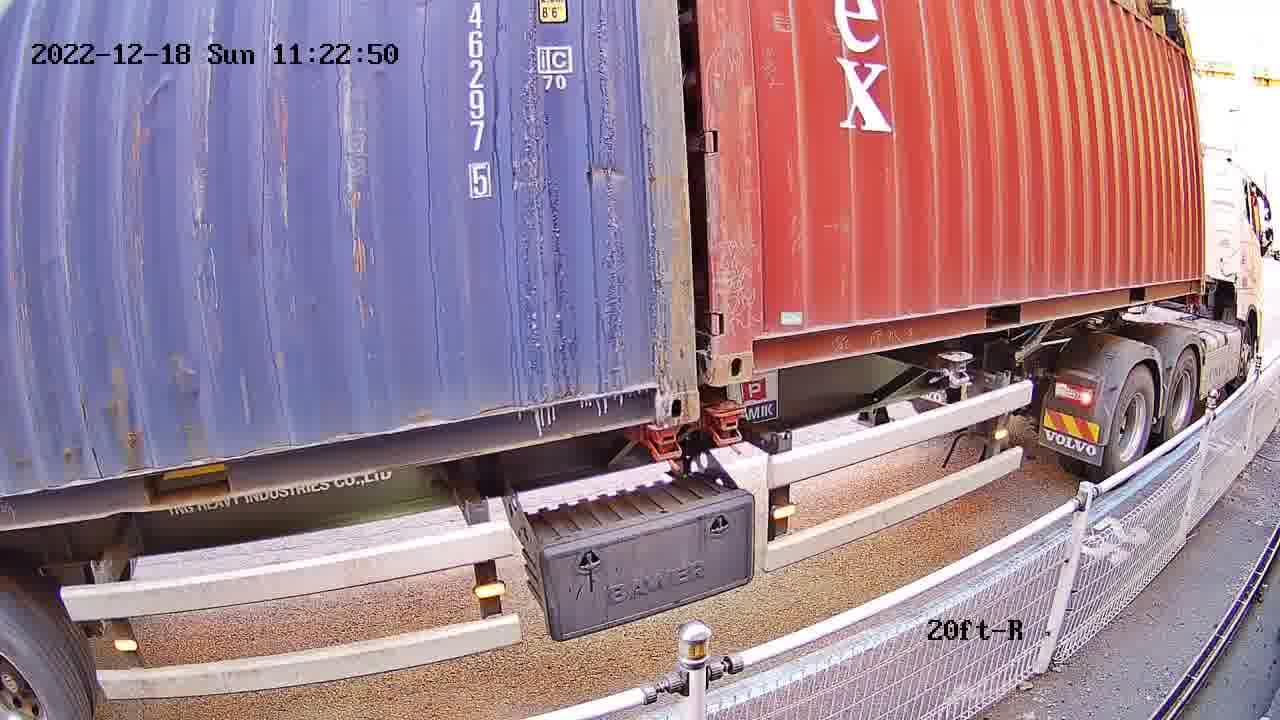Cone: (637, 423, 683, 466), (707, 401, 745, 446)
Hole_L: (711, 310, 790, 385)
Hole_R: (623, 355, 698, 427)
Tire: (1106, 367, 1155, 476), (1165, 352, 1197, 437)
